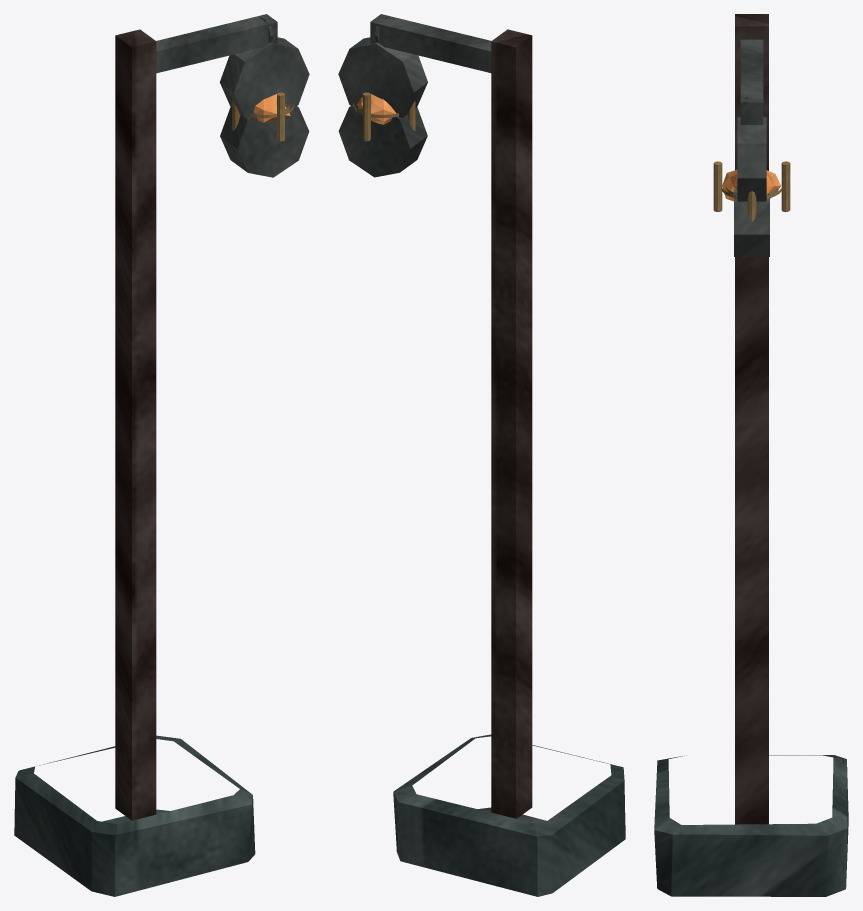
File: 0723_lantern_post_23.glb
3 views of the same model, side by side, from view 1: azimuth 30°, elevation 25°; view 2: azimuth 150°, elevation 25°; view 3: azimuth 270°, elevation 25° (orthographic). The views are drawn at different scales.
Parts seen in each view (by area): view 1: wood_dark, stone_dark, iron, brass; view 2: wood_dark, stone_dark, iron, brass; view 3: wood_dark, stone_dark, iron, brass, amber.
Boxes of the visible parts, box(x1,y1,x2,y2) form: wood_dark: box(115, 29, 156, 820); stone_dark: box(14, 735, 255, 896); iron: box(156, 14, 309, 177); brass: box(232, 92, 294, 141); wood_dark: box(491, 29, 532, 818); stone_dark: box(393, 734, 625, 896); iron: box(338, 14, 491, 177); brass: box(353, 92, 415, 141); wood_dark: box(735, 14, 768, 824); stone_dark: box(654, 755, 848, 896); iron: box(734, 39, 769, 256); brass: box(713, 161, 790, 221); amber: box(722, 169, 780, 201).
Size of the model in its own units: 1.31 by 4.1 by 0.8593.
Materials: 5 (5 with a texture image).
